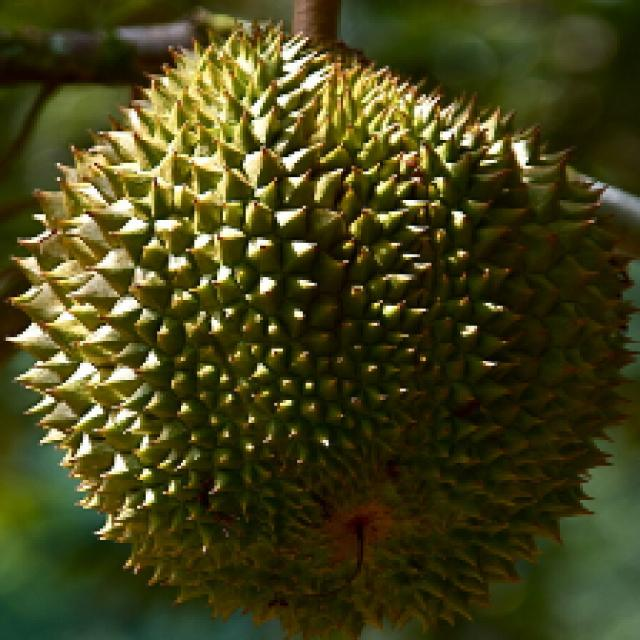d24: (38, 13, 633, 612)
